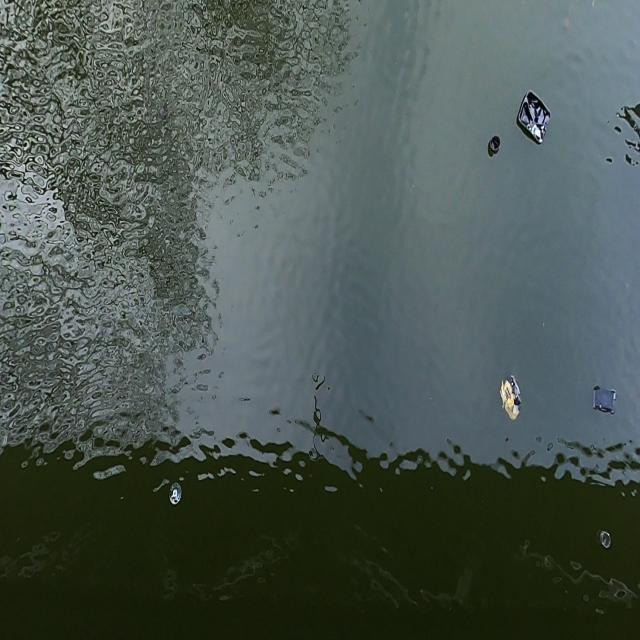Autre plastique: (511, 90, 550, 153), (494, 372, 524, 427), (590, 378, 616, 418), (594, 524, 616, 561), (164, 479, 183, 512), (483, 133, 502, 162)
